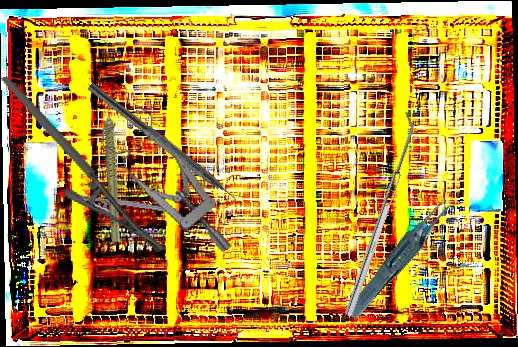Chopper: (79, 81, 251, 220)
Handpiece: (80, 94, 148, 245)
Needle Holder: (0, 44, 167, 283), (67, 191, 179, 228)
Spatula Surgical: (336, 111, 422, 317)
Speculum: (96, 95, 232, 276)
Tissue Forceps: (326, 192, 483, 322)
